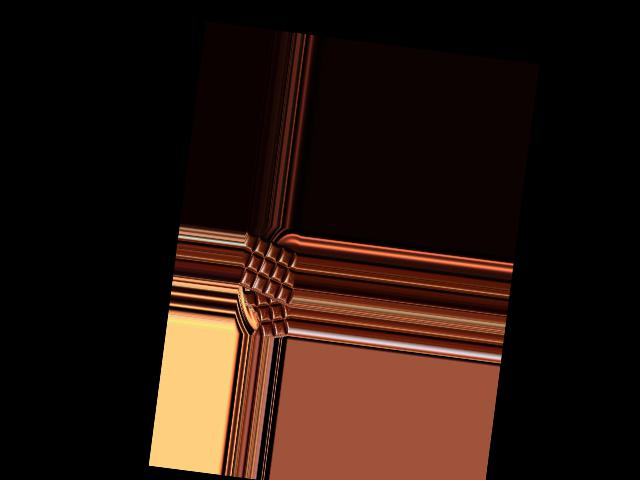chocolate: (237, 229, 301, 308)
